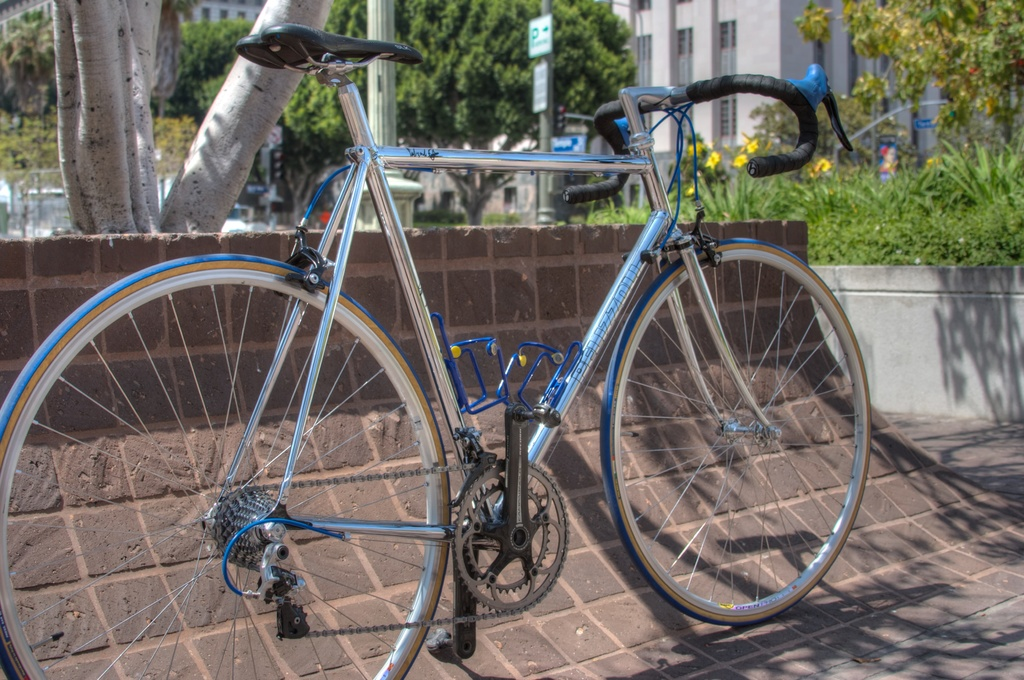Bike_away: (123, 62, 922, 641)
